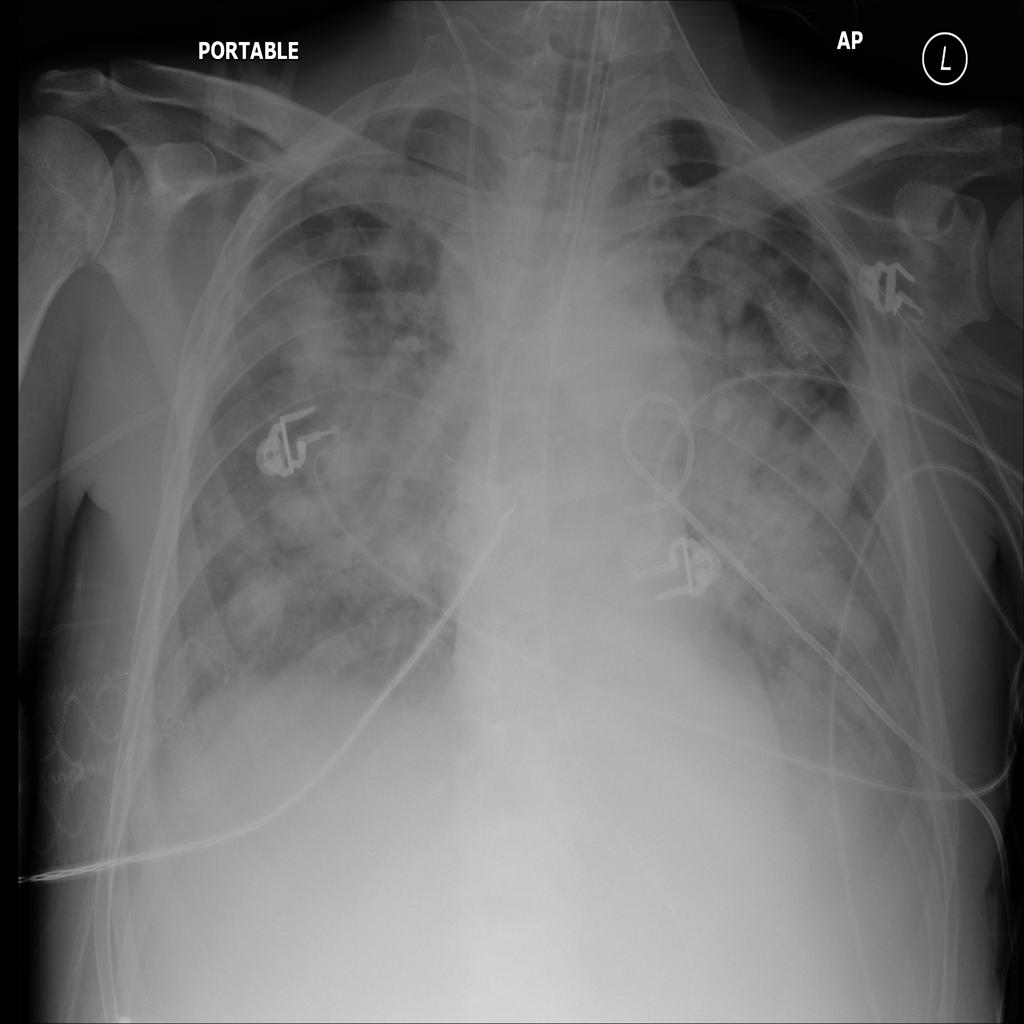nodule: (221, 559, 298, 654), (313, 422, 383, 505), (266, 475, 339, 554), (368, 519, 439, 598), (355, 219, 425, 293)
